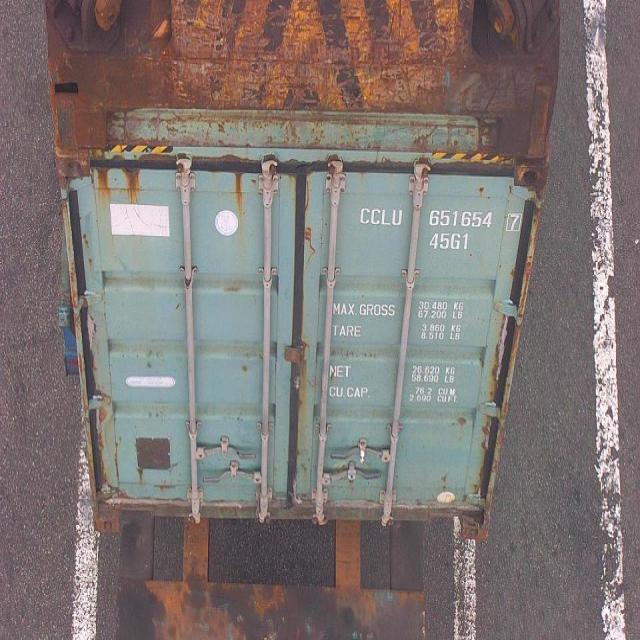ISO: (432, 232, 472, 252)
container_number: (361, 210, 520, 228)
